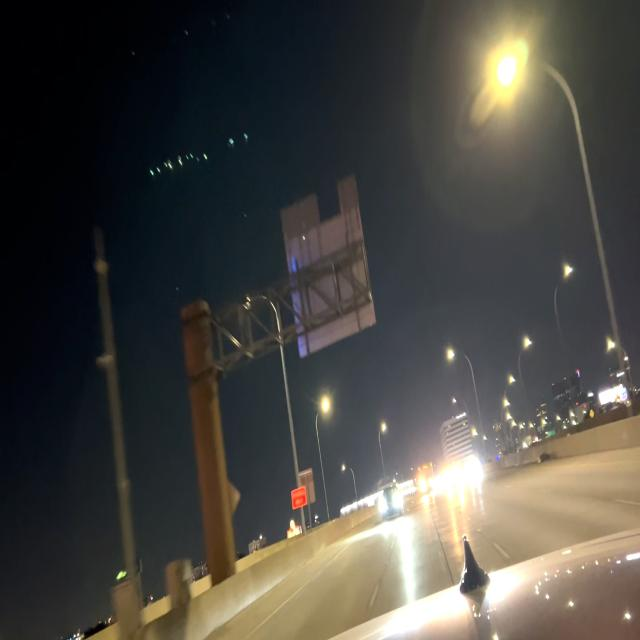back-of-sign: (279, 178, 379, 363)
